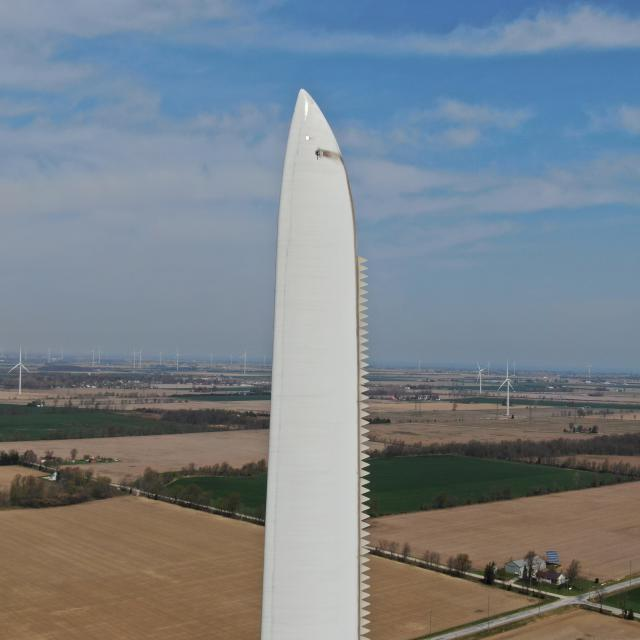damage: (314, 148, 324, 162)
